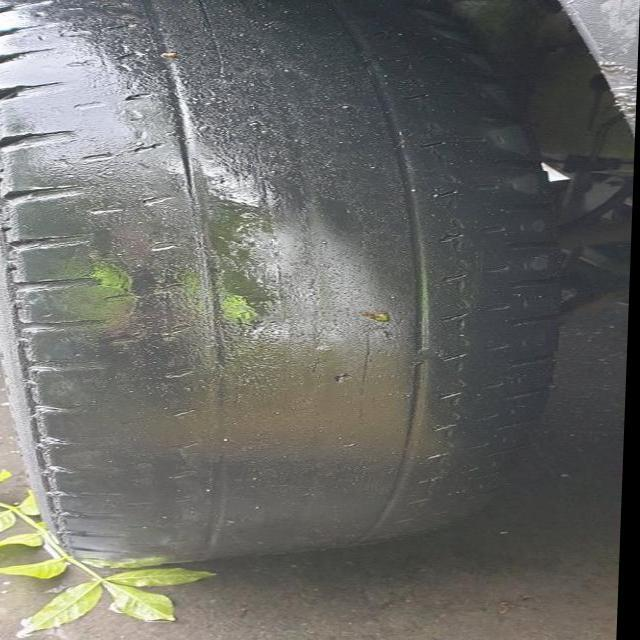Flat spots: (52, 0, 422, 532)
